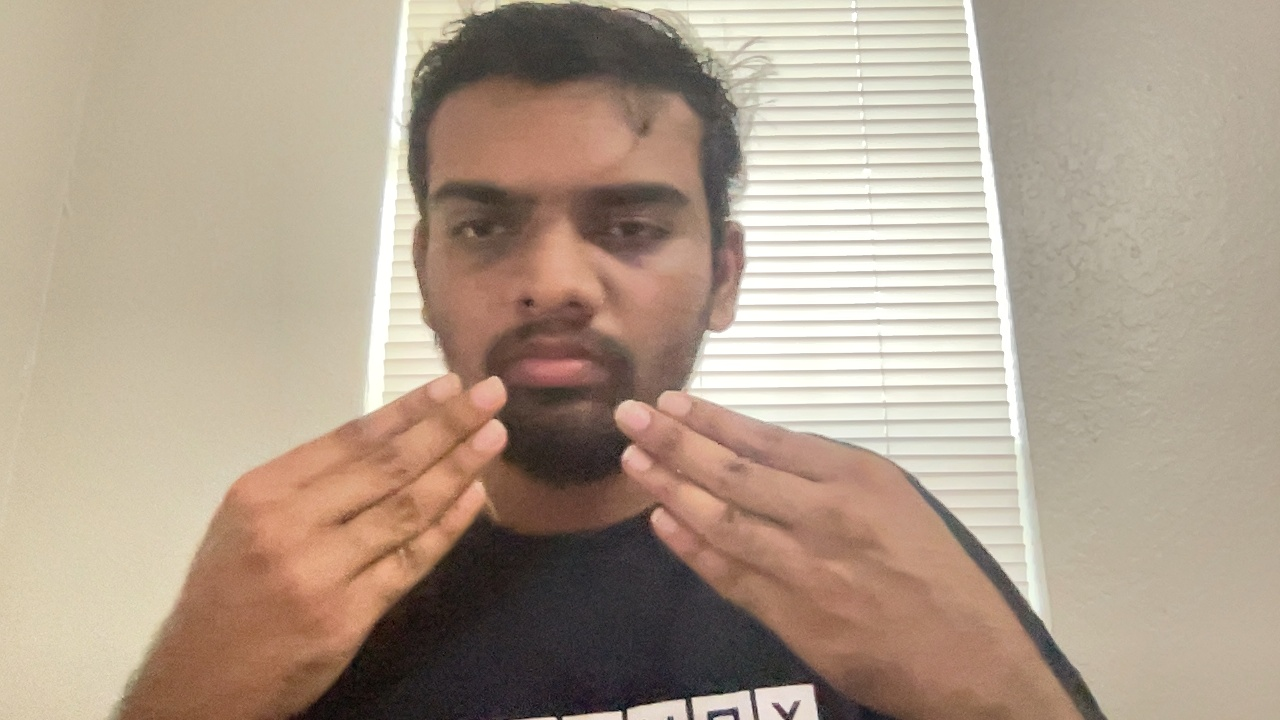thanks: (113, 378, 1093, 698)
